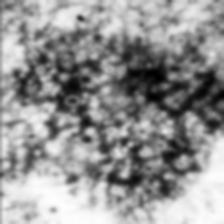Potentially Malignant Skin Tumors: (48, 55, 156, 149)
